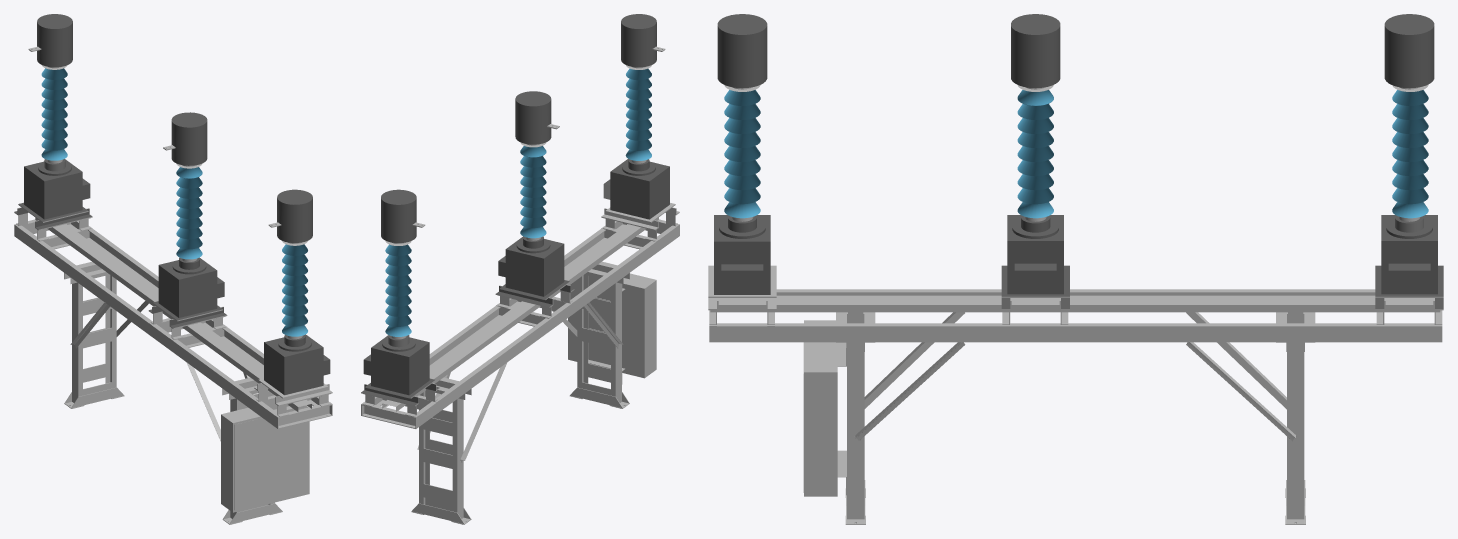
File: Б110-74-1,7-БУХЛ1.fbx
3 views of the same model, side by side, from view 1: azimuth 30°, elevation 25°; view 2: azimuth 150°, elevation 25°; view 3: azimuth 270°, elevation 25° (orthographic). The views are drawn at different scales.
Parts seen in each view (by area): view 1: Б110-74-1,7-БУХЛ1; view 2: Б110-74-1,7-БУХЛ1; view 3: Б110-74-1,7-БУХЛ1.
Part boxes in pixels (bbox=[...]): Б110-74-1,7-БУХЛ1: bbox=[14, 14, 332, 524]; Б110-74-1,7-БУХЛ1: bbox=[361, 14, 679, 524]; Б110-74-1,7-БУХЛ1: bbox=[708, 14, 1443, 524].
Size of the model in its own units: 840 by 3639 by 5016.
